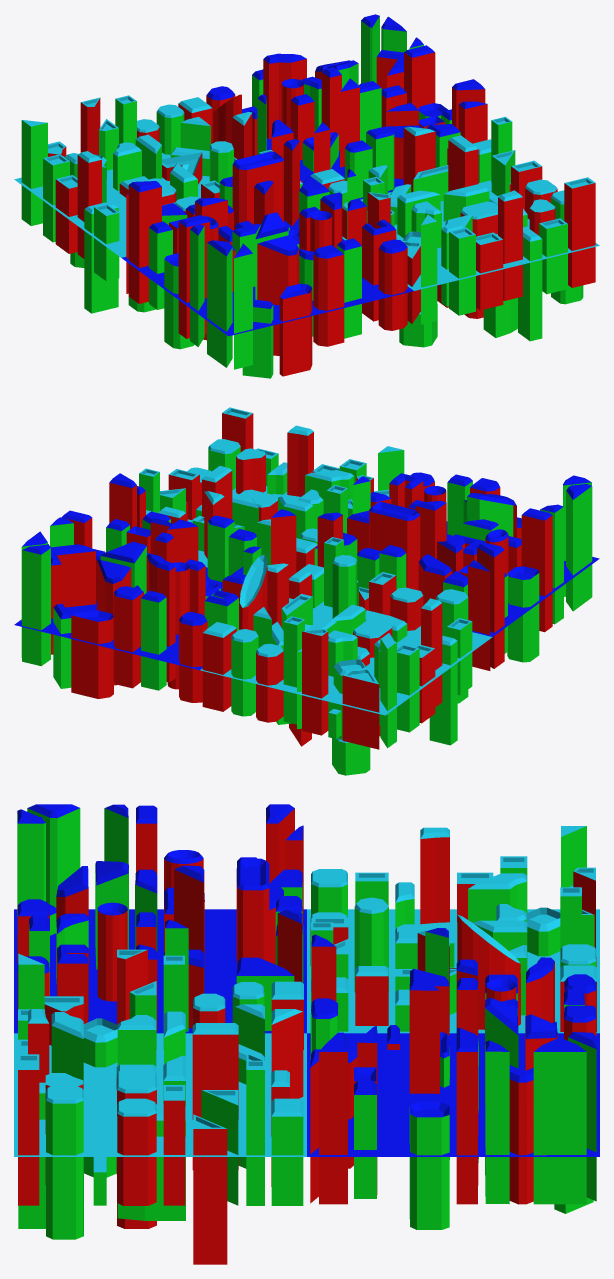
File: mesh_placa_negocity_01.FBX
3 renders of one model, top to bottom at view 1: azimuth 30°, elevation 25°; view 2: azimuth 150°, elevation 25°; view 3: azimuth 270°, elevation 25°, orthographic. The views are drawn at different scales.
Visible parts, largest first — view 1: placa_negocity_01; view 2: placa_negocity_01; view 3: placa_negocity_01.
Part boxes in pixels (<box>): placa_negocity_01: <box>14,14,599,378</box>; placa_negocity_01: <box>14,407,599,775</box>; placa_negocity_01: <box>14,804,599,1264</box>.
Bounding box in the file's own units: 20 × 8.47 × 20.
